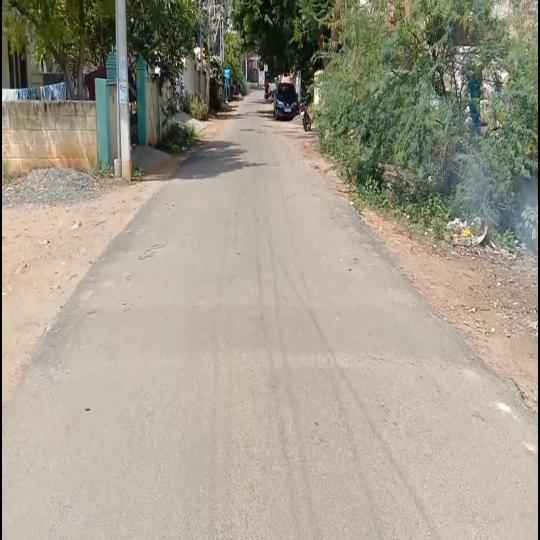Speed Bump: (40, 302, 474, 361)
